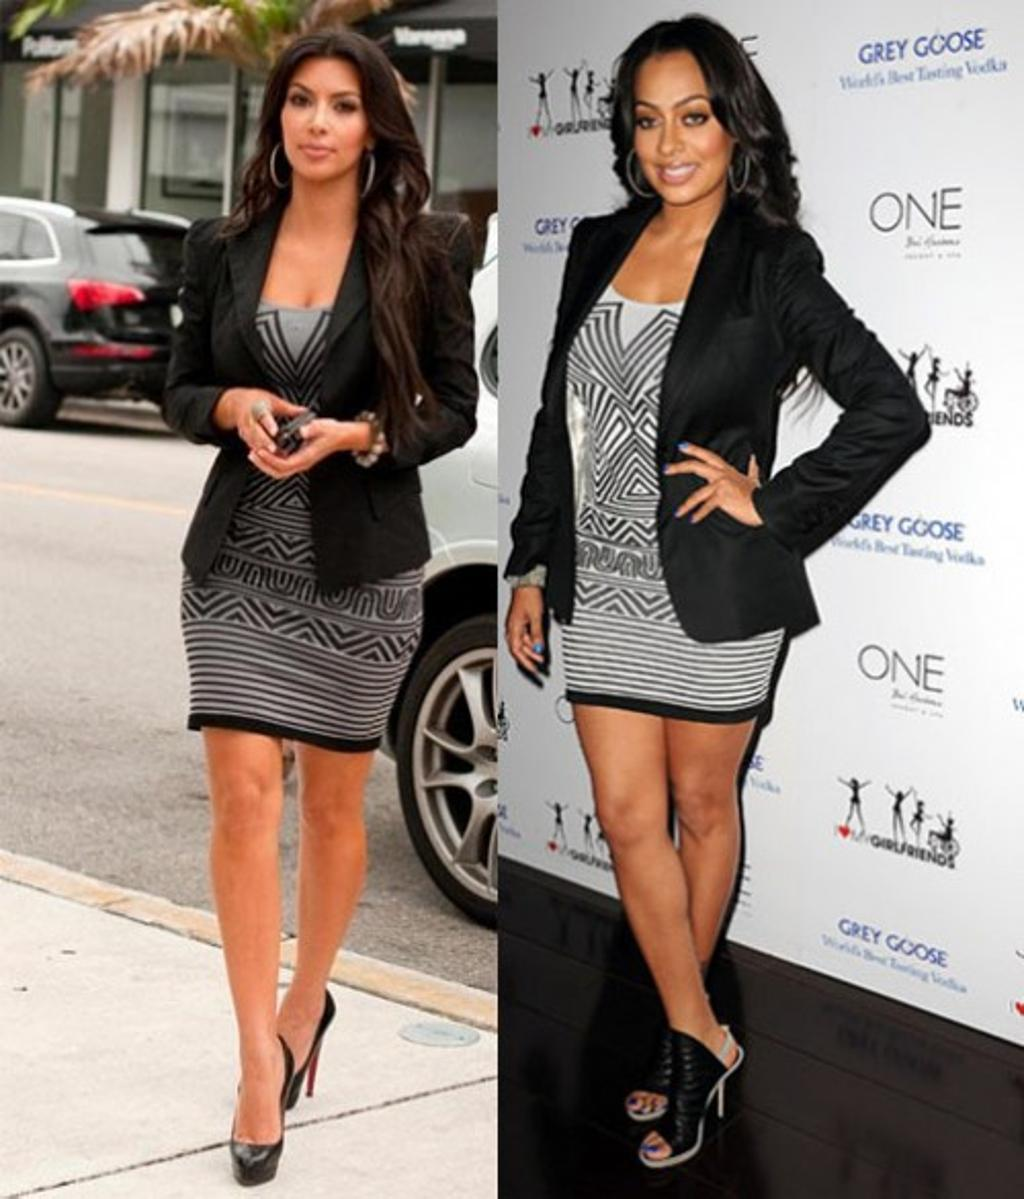face: (629, 51, 727, 201), (281, 56, 368, 178)
